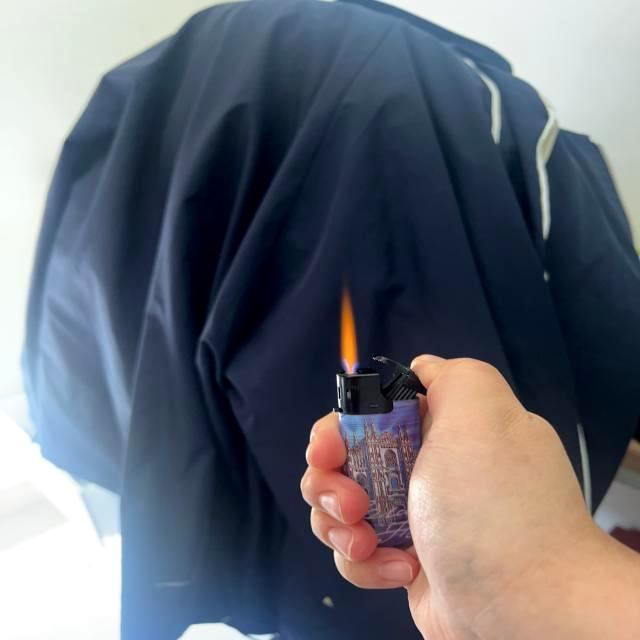fire: (338, 289, 362, 371)
